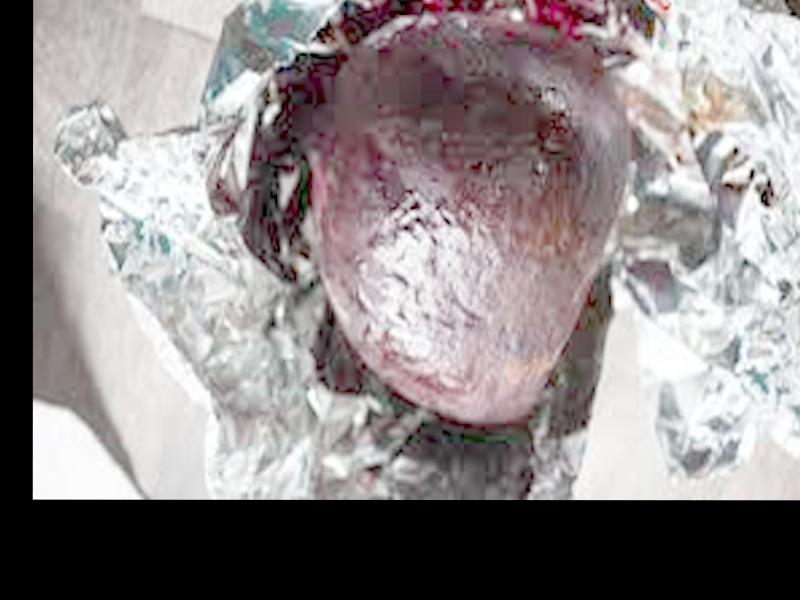Beet: (305, 29, 631, 425)
